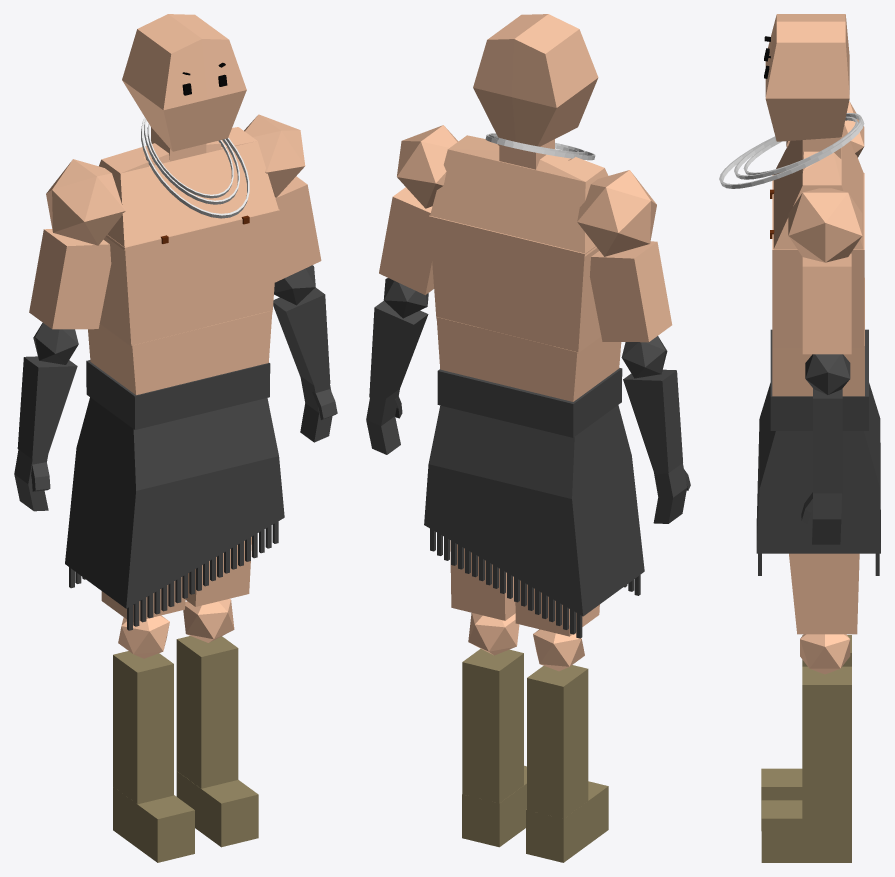
File: ShiningHead.fbx
3 renders of one model, left to right at view 1: azimuth 30°, elevation 25°; view 2: azimuth 150°, elevation 25°; view 3: azimuth 270°, elevation 25°, orthographic.
Parts seen in each view (by area): view 1: Cube.030, Cube.001, Cube, Cube.005, Cube.002, Cube.014, Cube.021, Cube.029, Cube.022, Icosphere.005, Cube.016, Cube.015 (+14 smaller); view 2: Cube.030, Cube.001, Cube.005, Cube, Cube.014, Cube.002, Cube.021, Cube.029, Cube.022, Icosphere.005, Cube.023, Cube.009 (+13 smaller); view 3: Cube.030, Cube, Cube.014, Cube.013, Cube.015, Cube.009, Cube.001, Cube.005, Icosphere.004, Cube.007, Cube.029, Cube.002 (+9 smaller).
Boxes of the visible parts, x1=… form: Cube.030: x1=65, y1=397, x2=284, y2=608; Cube.001: x1=99, y1=209, x2=279, y2=346; Cube: x1=122, y1=14, x2=246, y2=151; Cube.005: x1=99, y1=127, x2=278, y2=250; Cube.002: x1=88, y1=310, x2=272, y2=395; Cube.014: x1=176, y1=636, x2=238, y2=788; Cube.021: x1=113, y1=651, x2=173, y2=804; Cube.029: x1=86, y1=360, x2=270, y2=429; Cube.022: x1=29, y1=229, x2=111, y2=329; Icosphere.005: x1=46, y1=159, x2=125, y2=245; Cube.016: x1=113, y1=787, x2=194, y2=862; Cube.015: x1=176, y1=771, x2=258, y2=847; Cube.030: x1=424, y1=405, x2=644, y2=616; Cube.001: x1=429, y1=215, x2=601, y2=352; Cube.005: x1=430, y1=135, x2=608, y2=256; Cube: x1=473, y1=14, x2=598, y2=146; Cube.014: x1=462, y1=648, x2=523, y2=803; Cube.002: x1=436, y1=317, x2=621, y2=401; Cube.021: x1=527, y1=665, x2=588, y2=818; Cube.029: x1=437, y1=368, x2=622, y2=437; Cube.022: x1=589, y1=241, x2=672, y2=342; Icosphere.005: x1=577, y1=170, x2=656, y2=256; Cube.023: x1=623, y1=369, x2=682, y2=474; Cube.009: x1=379, y1=187, x2=433, y2=295; Cube.030: x1=756, y1=383, x2=880, y2=553; Cube: x1=765, y1=14, x2=849, y2=141; Cube.014: x1=802, y1=666, x2=851, y2=818; Cube.013: x1=789, y1=553, x2=859, y2=634; Cube.015: x1=761, y1=800, x2=851, y2=862; Cube.009: x1=802, y1=253, x2=851, y2=354; Cube.001: x1=772, y1=173, x2=864, y2=347; Cube.005: x1=773, y1=124, x2=863, y2=249; Icosphere.004: x1=788, y1=188, x2=862, y2=262; Cube.007: x1=813, y1=388, x2=842, y2=493; Cube.029: x1=770, y1=329, x2=868, y2=430; Cube.002: x1=772, y1=278, x2=864, y2=396.
Bounding box in the file's own units: 66.44 × 167 × 30.02.
